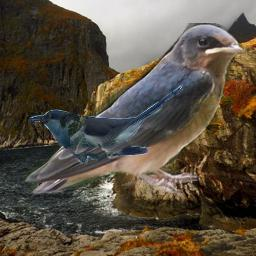Cuckoo: (28, 85, 187, 164)
Swallow: (23, 23, 246, 203)
